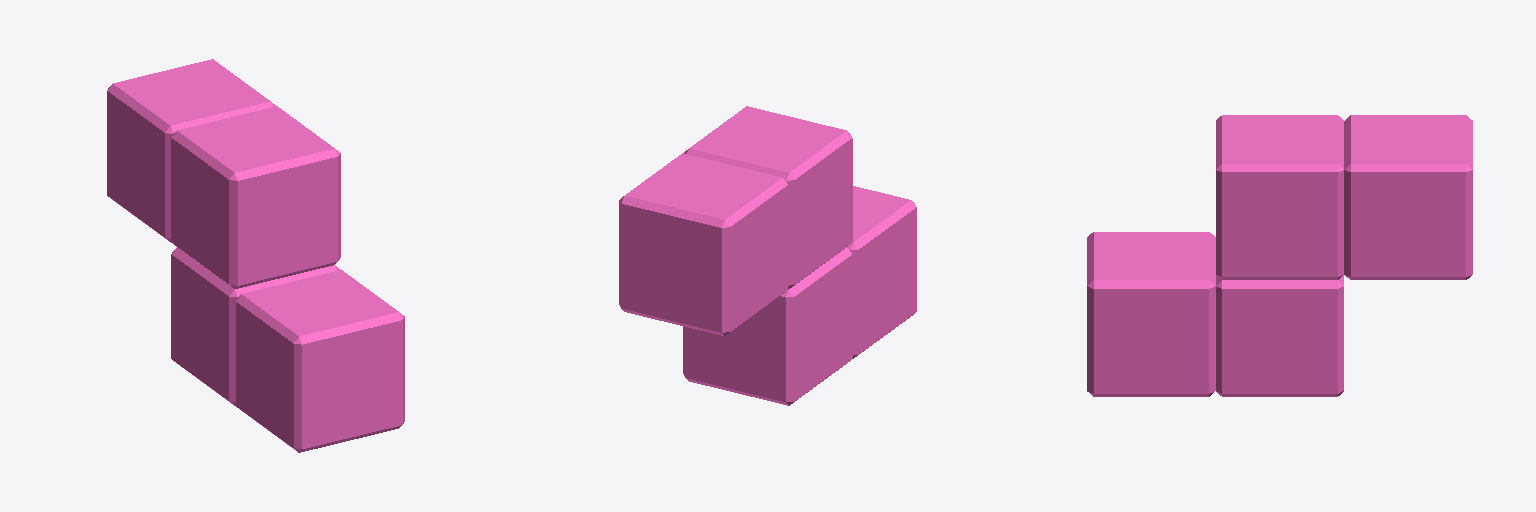
3 renders of one model, left to right at view 1: azimuth 30°, elevation 25°; view 2: azimuth 150°, elevation 25°; view 3: azimuth 270°, elevation 25°, orthographic.
Parts seen in each view (by area): view 1: Z-Block.Reverse_Cube.025; view 2: Z-Block.Reverse_Cube.025; view 3: Z-Block.Reverse_Cube.025.
Boxes of the visible parts, x1,y1,x2,y2 form: Z-Block.Reverse_Cube.025: [107, 59, 404, 452]; Z-Block.Reverse_Cube.025: [619, 106, 916, 405]; Z-Block.Reverse_Cube.025: [1087, 115, 1472, 396].
Size of the model in its own units: 2 by 4 by 6.
1 materials, 1 textured.